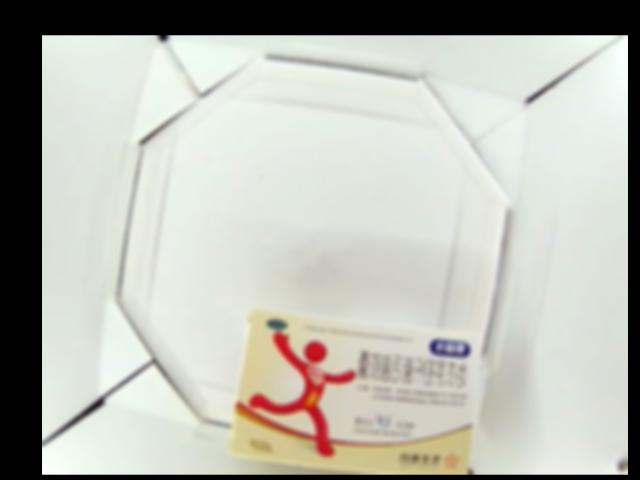Medicine: (227, 308, 477, 474)
